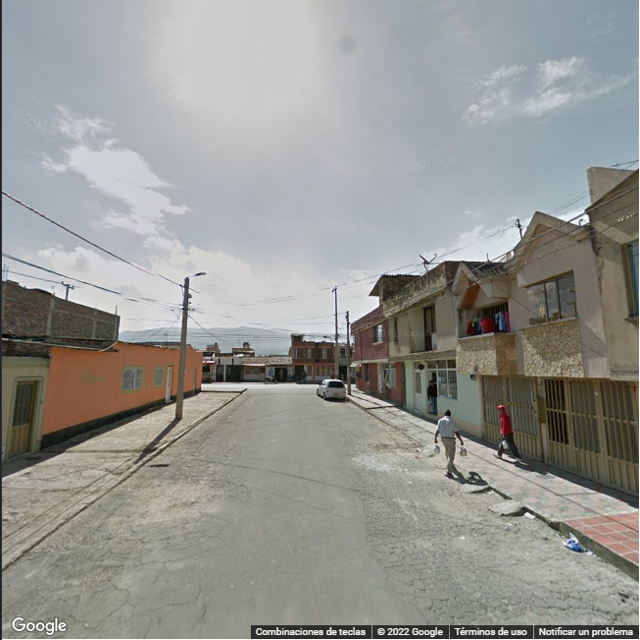D00: (99, 585, 127, 630), (190, 575, 204, 605)
D10: (114, 600, 188, 626), (130, 547, 221, 568)
D20: (370, 544, 554, 624)
